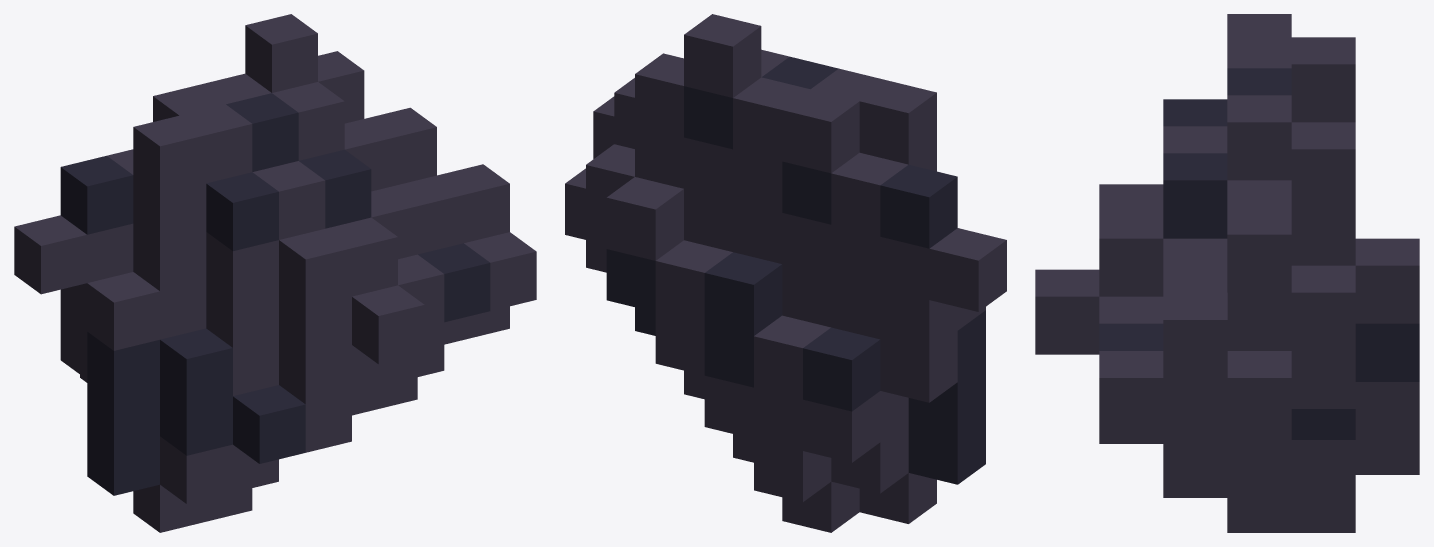
File: meteoro-4.obj
3 renders of one model, left to right at view 1: azimuth 30°, elevation 25°; view 2: azimuth 150°, elevation 25°; view 3: azimuth 270°, elevation 25°, orthographic. The views are drawn at different scales.
Bounding box in the file's own units: 0.9 × 0.9 × 0.6.
Materials: 1 (1 with a texture image).
